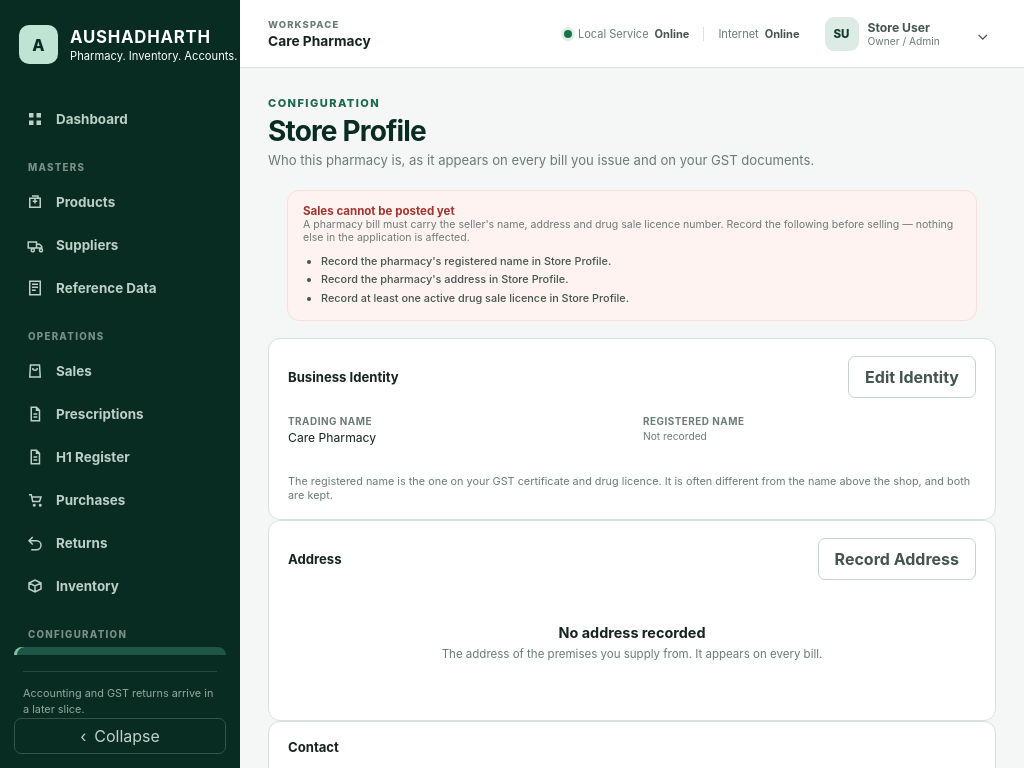
Scenario: Store legal profile › will not send an address with no first line
Click the button "Record Address".
click(897, 560)  # box [818,538,976,580]
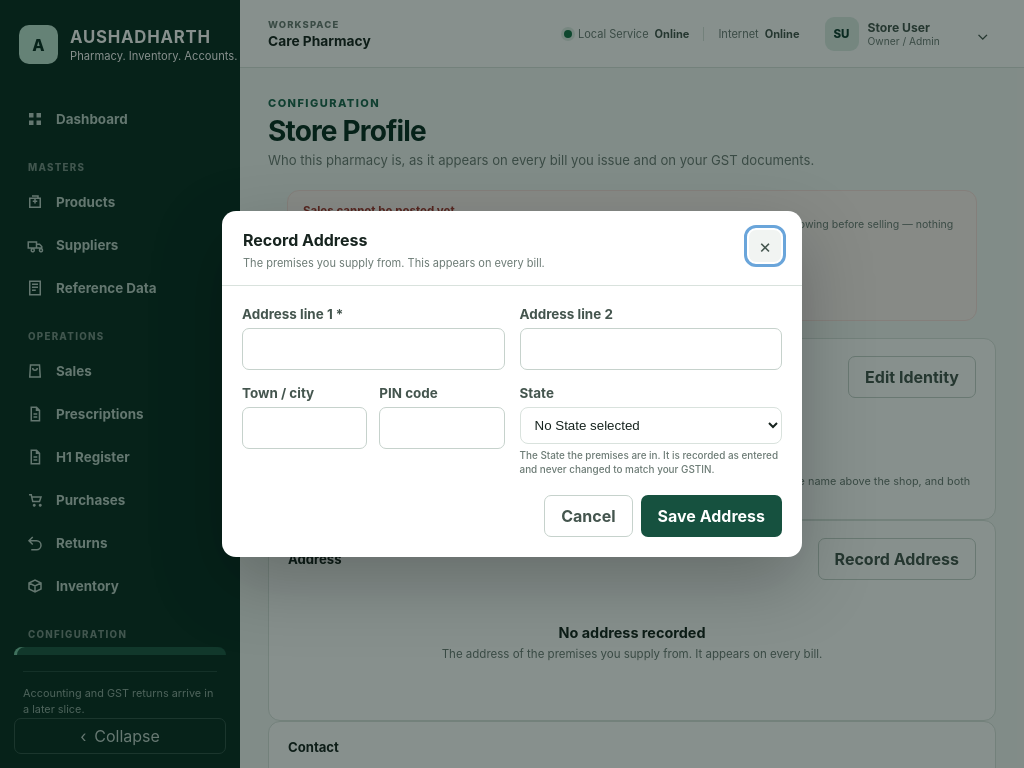
Click the button "Save Address".
click(711, 516)  # box [640,495,782,537]
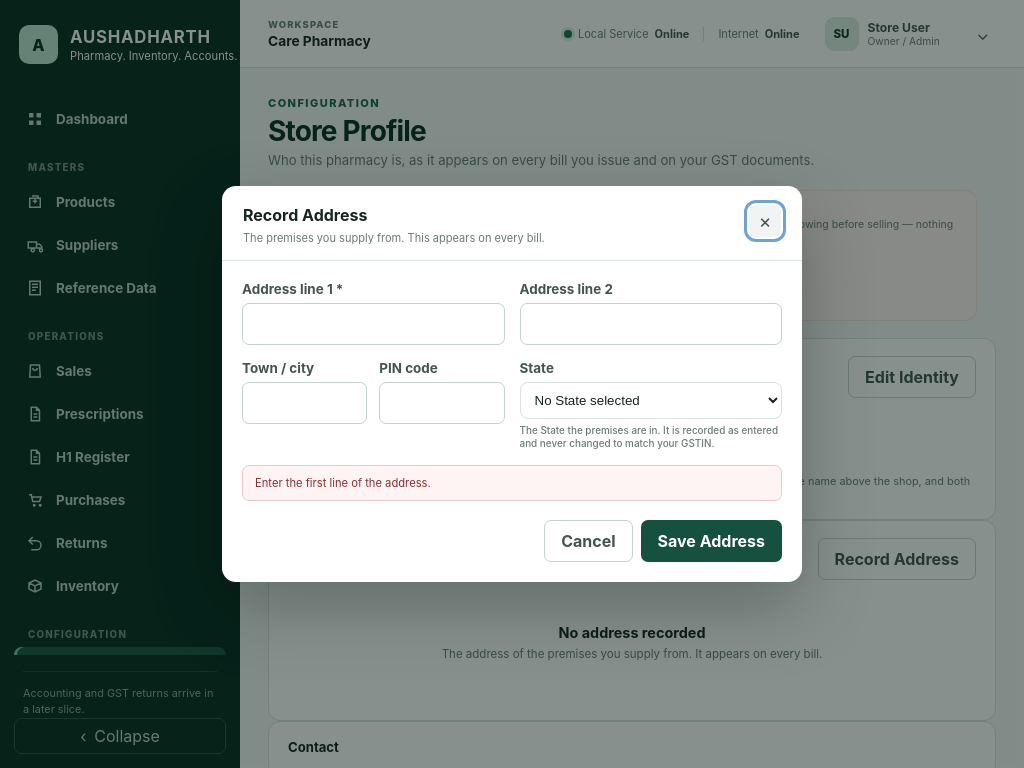
Now the message shows "first line of the address", box [255,476,431,490]
